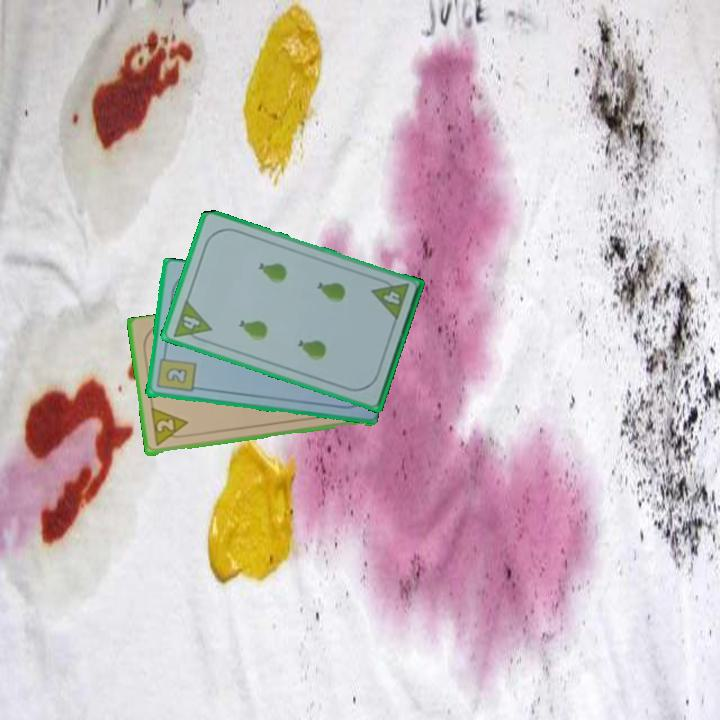2b: (153, 349, 198, 395)
2p: (147, 406, 191, 450)
4p: (170, 296, 214, 346), (368, 274, 411, 323)
